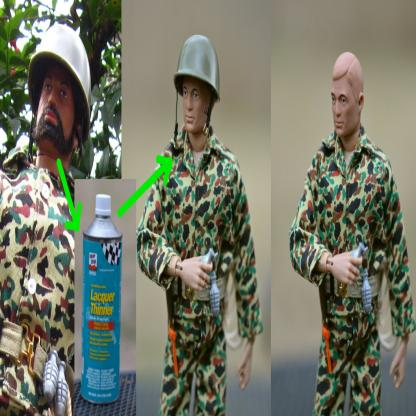Helmet: (23, 19, 93, 156), (172, 33, 221, 135)
